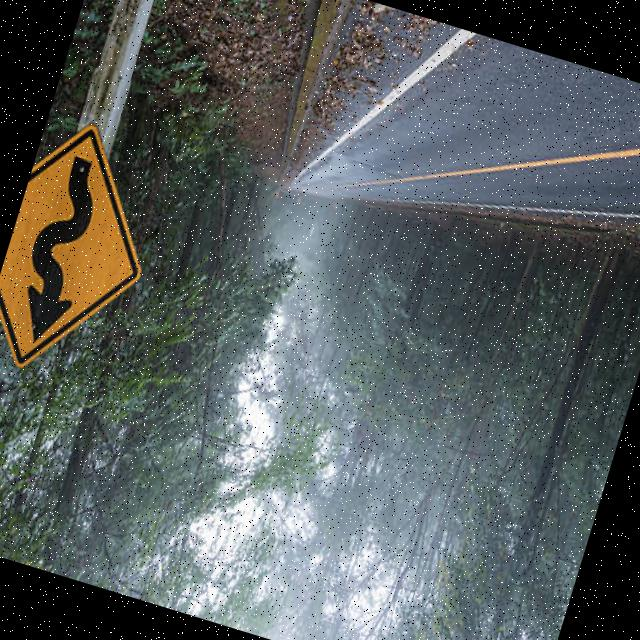left_sharp_curve: (0, 114, 179, 397)
